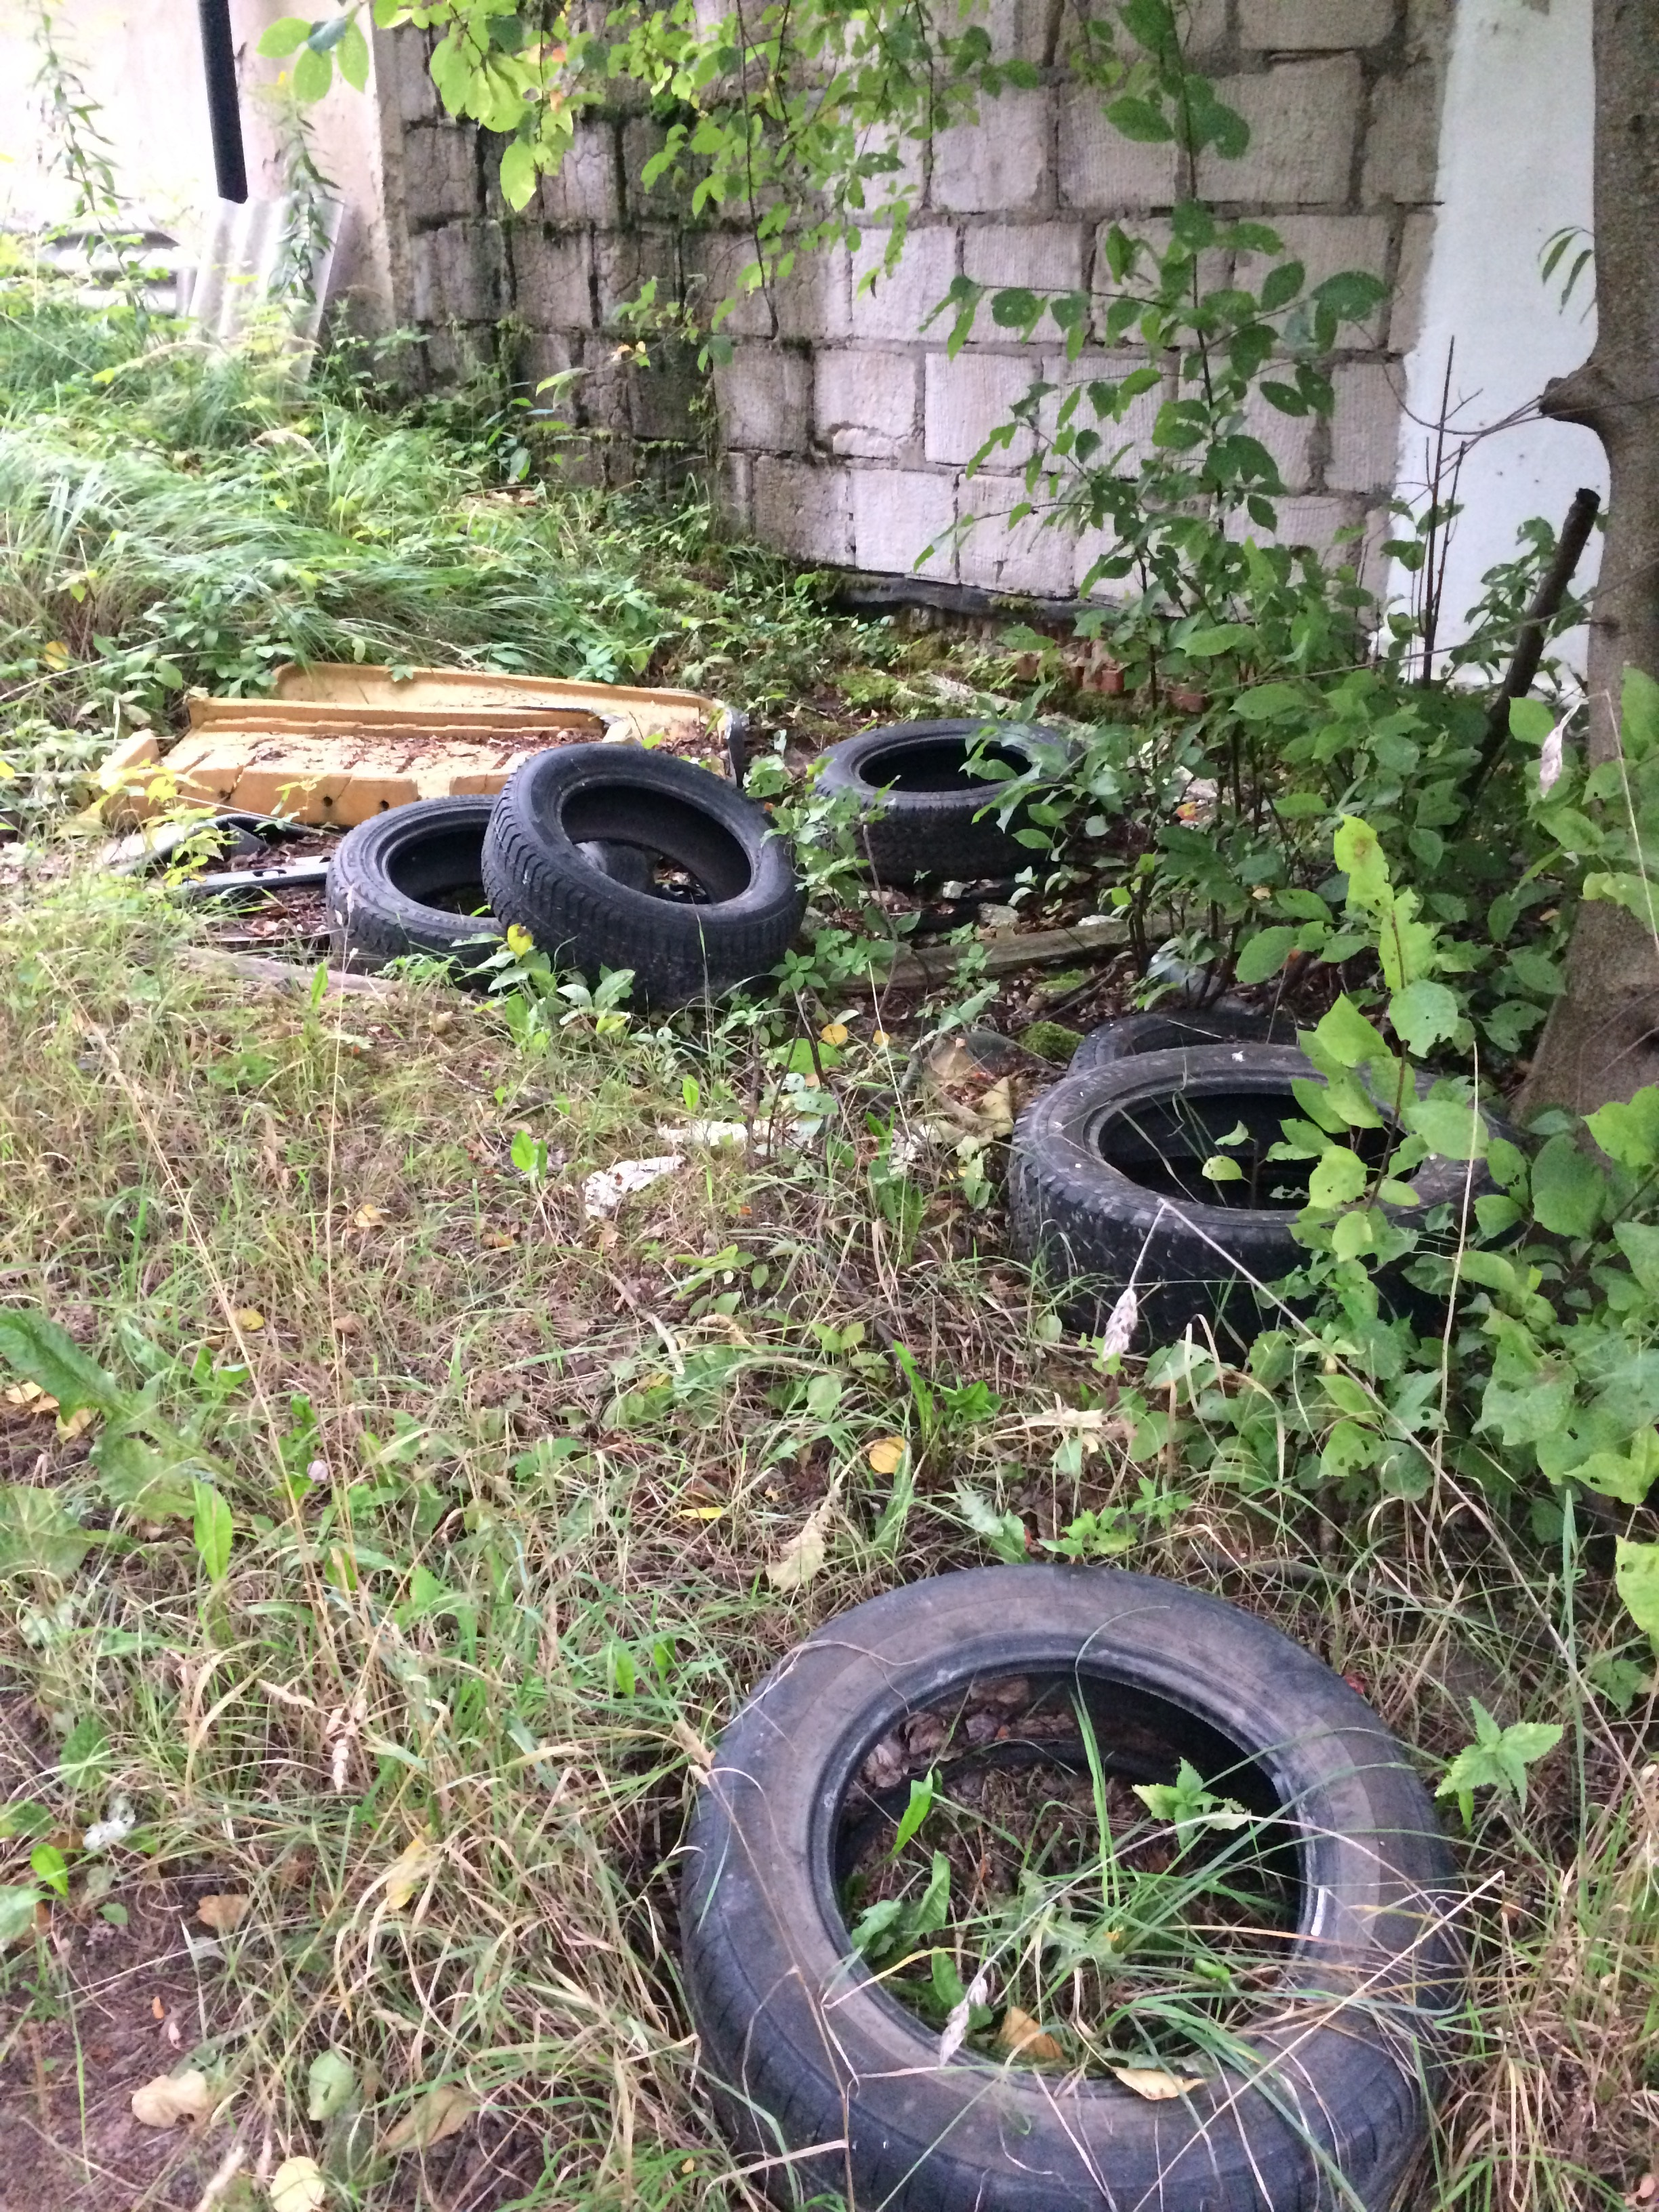trash: (678, 1524, 1476, 2212), (64, 575, 1195, 1024), (910, 965, 1608, 1416)
